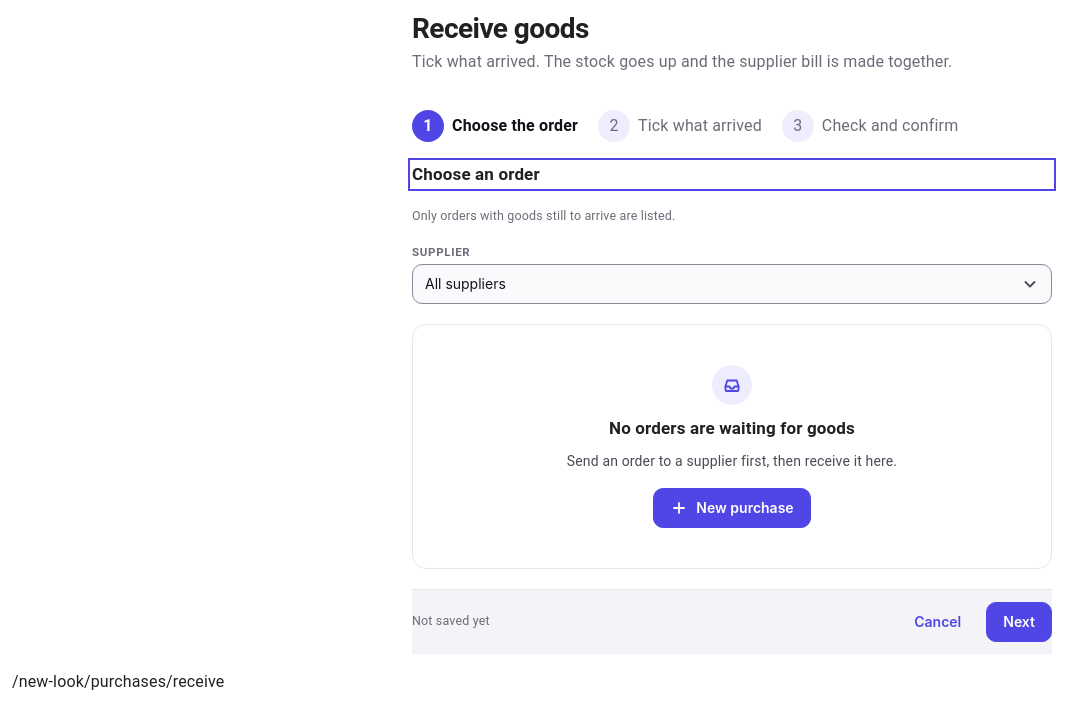
Scenario: step 1: choose the order › with no open orders the page says so and offers a new purchase
Expected: the heading "No orders are waiting for goods" is shown, [609,416,855,439]
Click the button "New purchase" at point(732, 508), box [653,488,811,528]
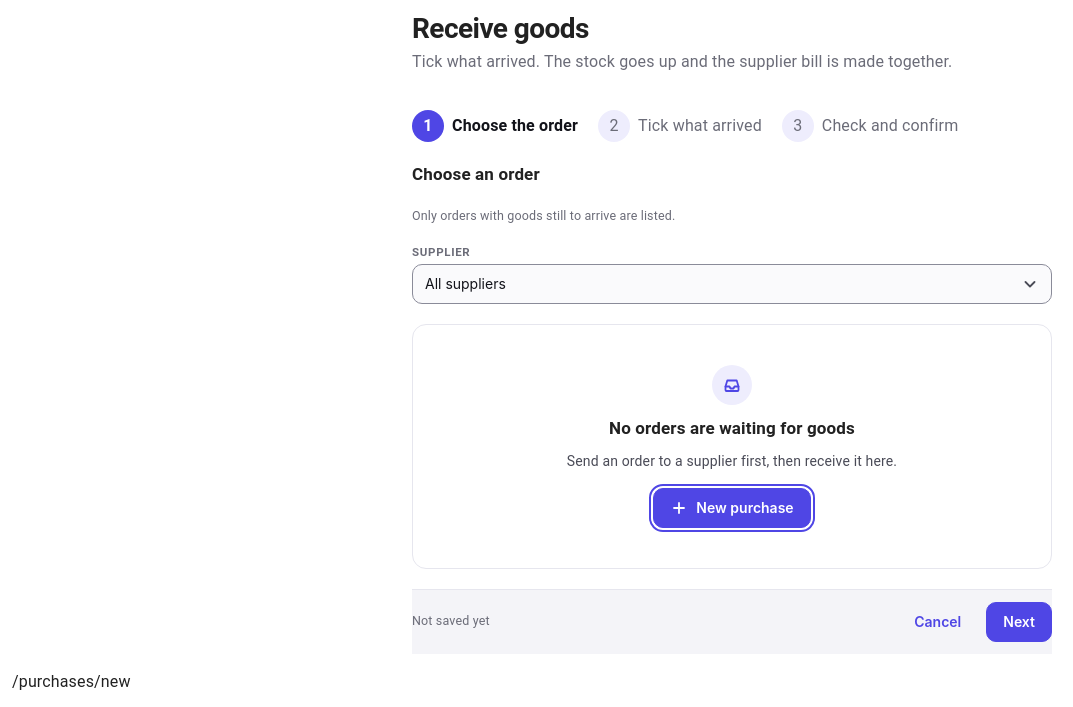
Now the text with test id "where" reads "/purchases/new", box [12,672,131,691]
